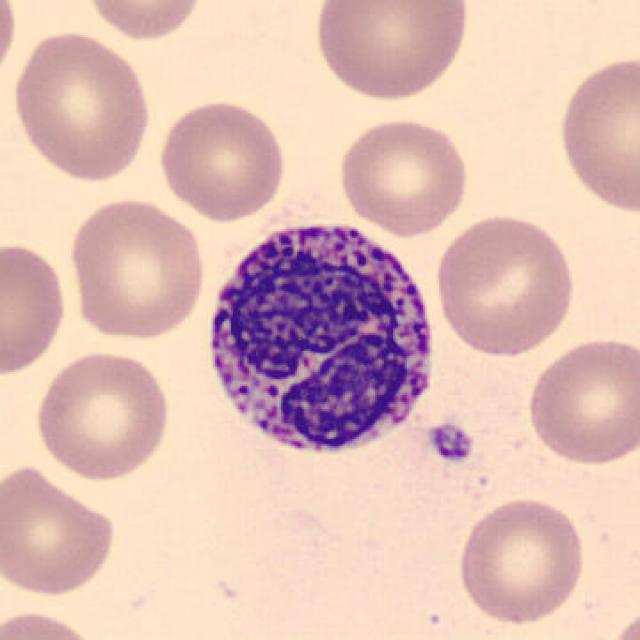Basophil: (196, 204, 446, 470)
Platelets: (426, 420, 476, 466)
RBC: (9, 27, 155, 184), (432, 208, 580, 360), (64, 194, 208, 342), (30, 346, 174, 483), (454, 492, 588, 628), (153, 95, 290, 224), (309, 0, 475, 104), (334, 115, 473, 236), (0, 460, 119, 600), (523, 333, 638, 469), (553, 49, 638, 219), (0, 236, 71, 381), (78, 0, 208, 42), (0, 606, 105, 640), (0, 0, 21, 93), (608, 604, 638, 640)
